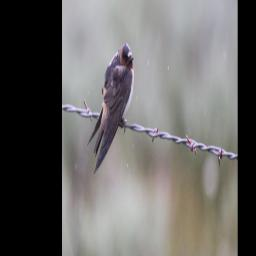Swallow: (87, 41, 135, 175)
